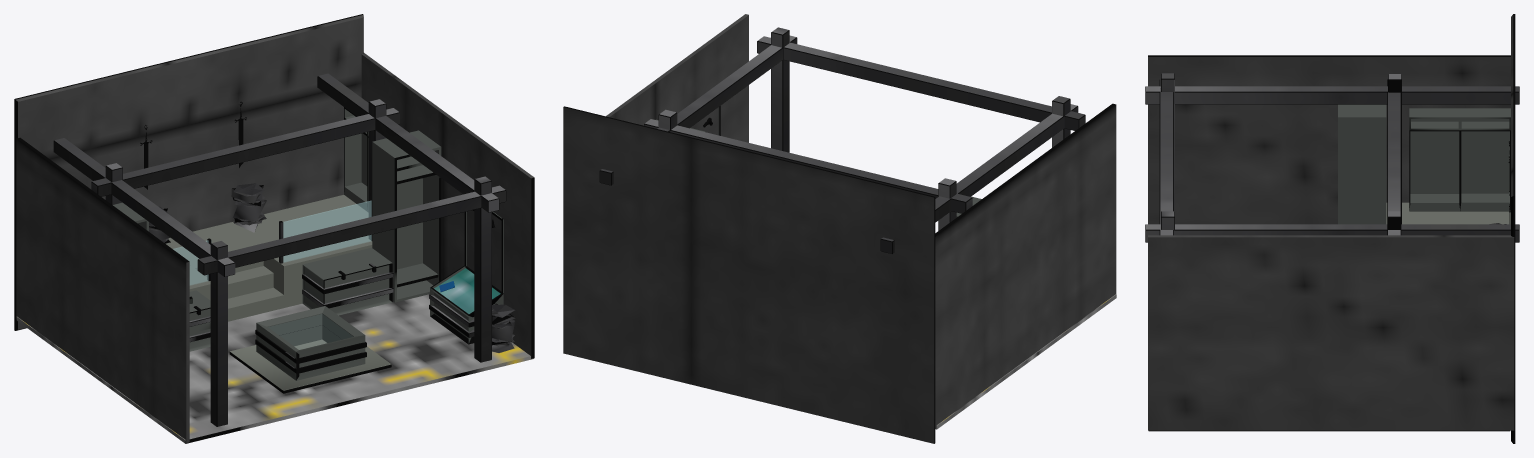
The model's file is armory_room.glb.
The picture shows the model from 3 angles, left to right: view 1: azimuth 30°, elevation 25°; view 2: azimuth 150°, elevation 25°; view 3: azimuth 270°, elevation 25°; orthographic projection. The views are drawn at different scales.
Visible parts, largest first — view 1: ArmoryInterior, ArmoryGlass; view 2: ArmoryInterior; view 3: ArmoryInterior.
Part boxes in pixels (<box>): ArmoryInterior: <box>14,14,534,443</box>; ArmoryGlass: <box>173,200,371,285</box>; ArmoryInterior: <box>563,14,1116,443</box>; ArmoryInterior: <box>1145,14,1519,443</box>.
Size of the model in its own units: 5.05 by 3.2 by 4.39.
Materials: 4 (1 with a texture image).
